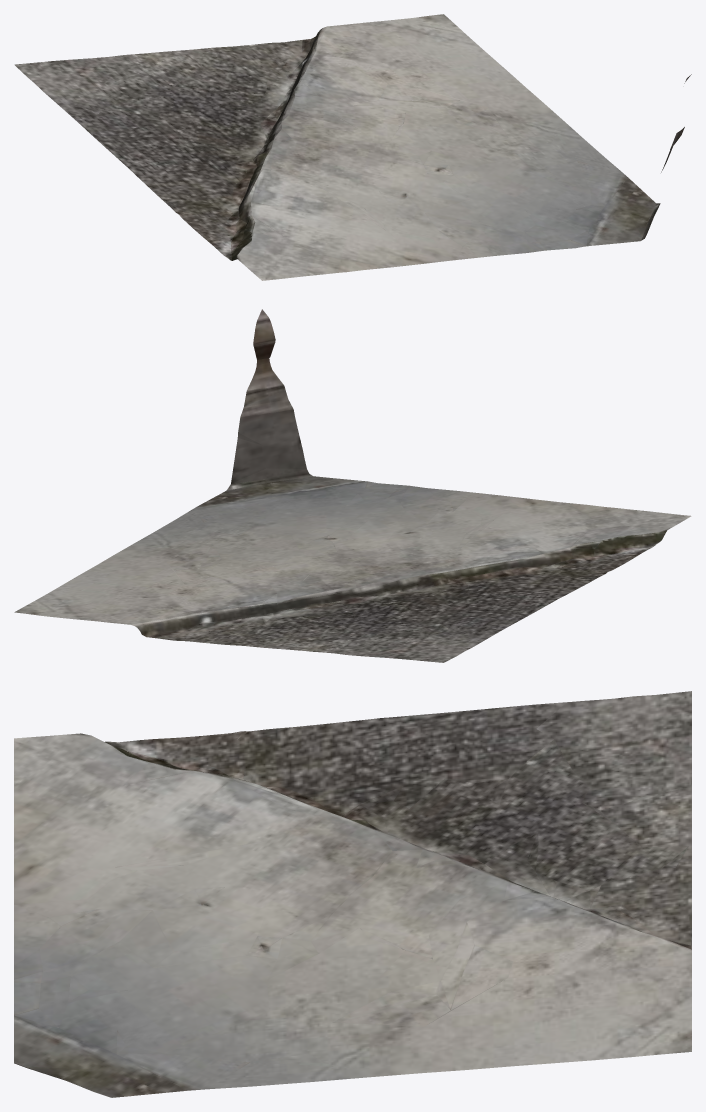
The picture shows the model from 3 angles, top to bottom: view 1: azimuth 30°, elevation 25°; view 2: azimuth 150°, elevation 25°; view 3: azimuth 270°, elevation 25°; orthographic projection. The views are drawn at different scales.
Size of the model in its own units: 1.67 by 0.5787 by 1.67.
Materials: 2 (2 with a texture image).
